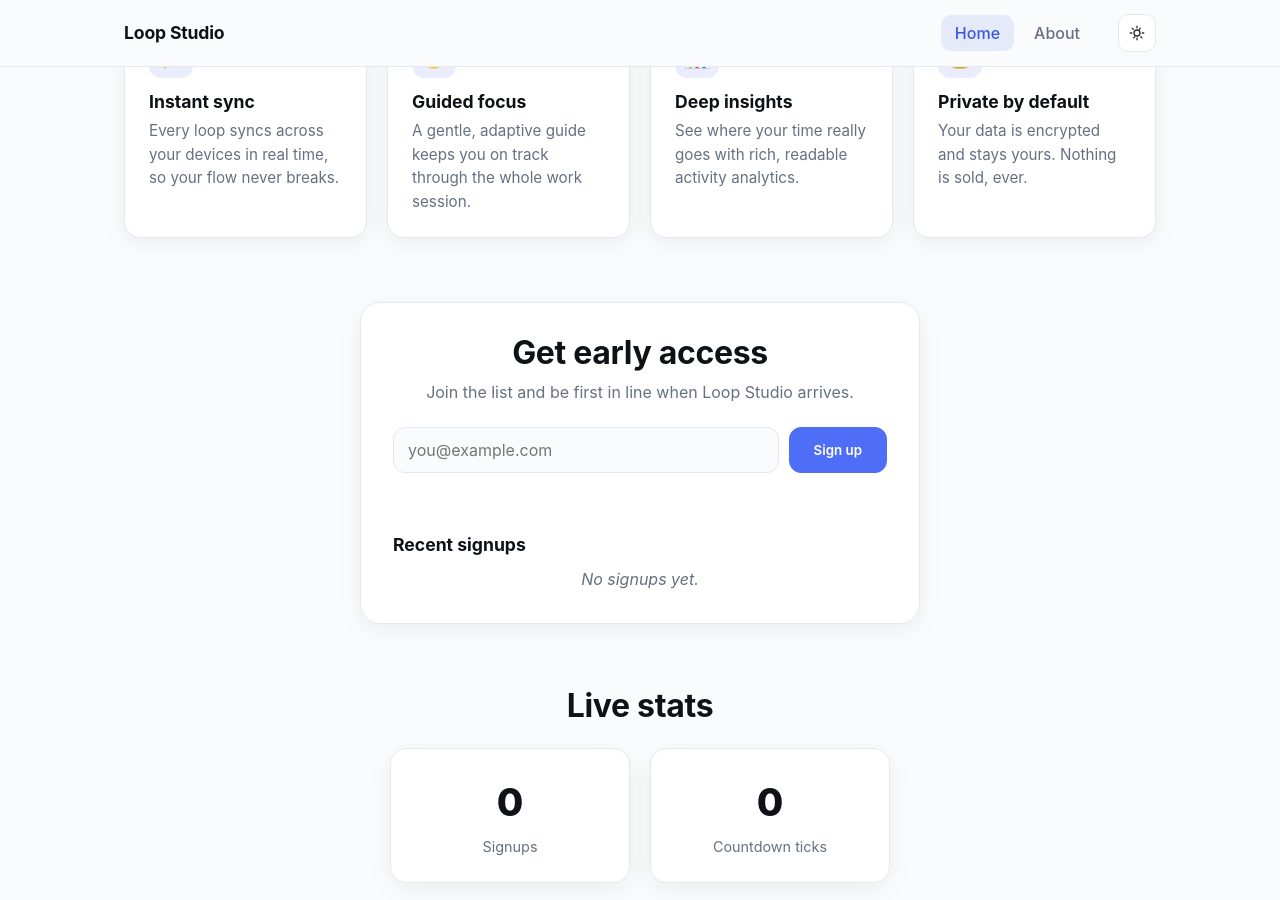
Test: App › rejects a duplicate email
(page scrolled)
Type "dup@example.com" into the field named "email".
click(586, 450); type("dup@example.com")  # box [393, 427, 778, 473]
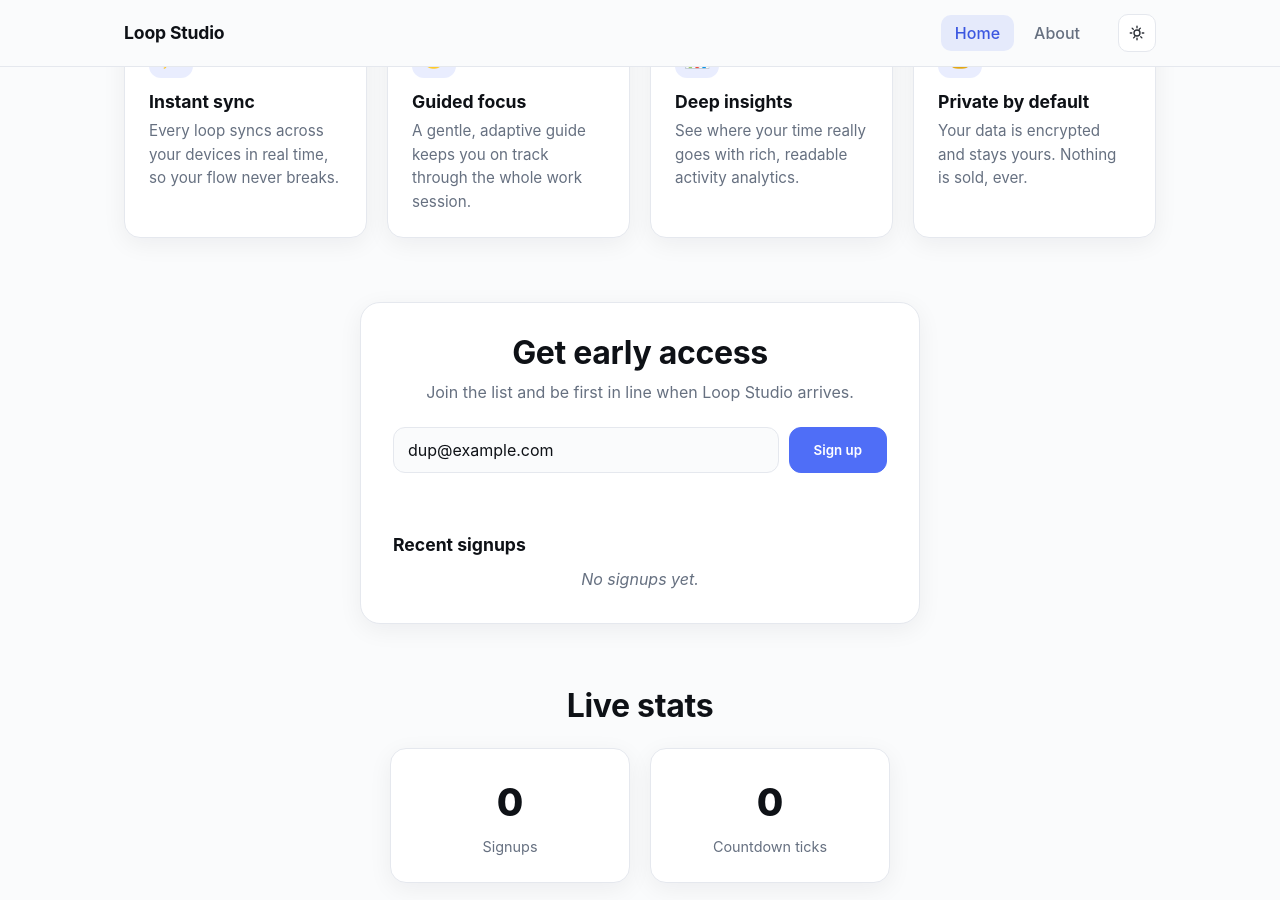
Submit the form named "get early access", box [393, 427, 887, 473]
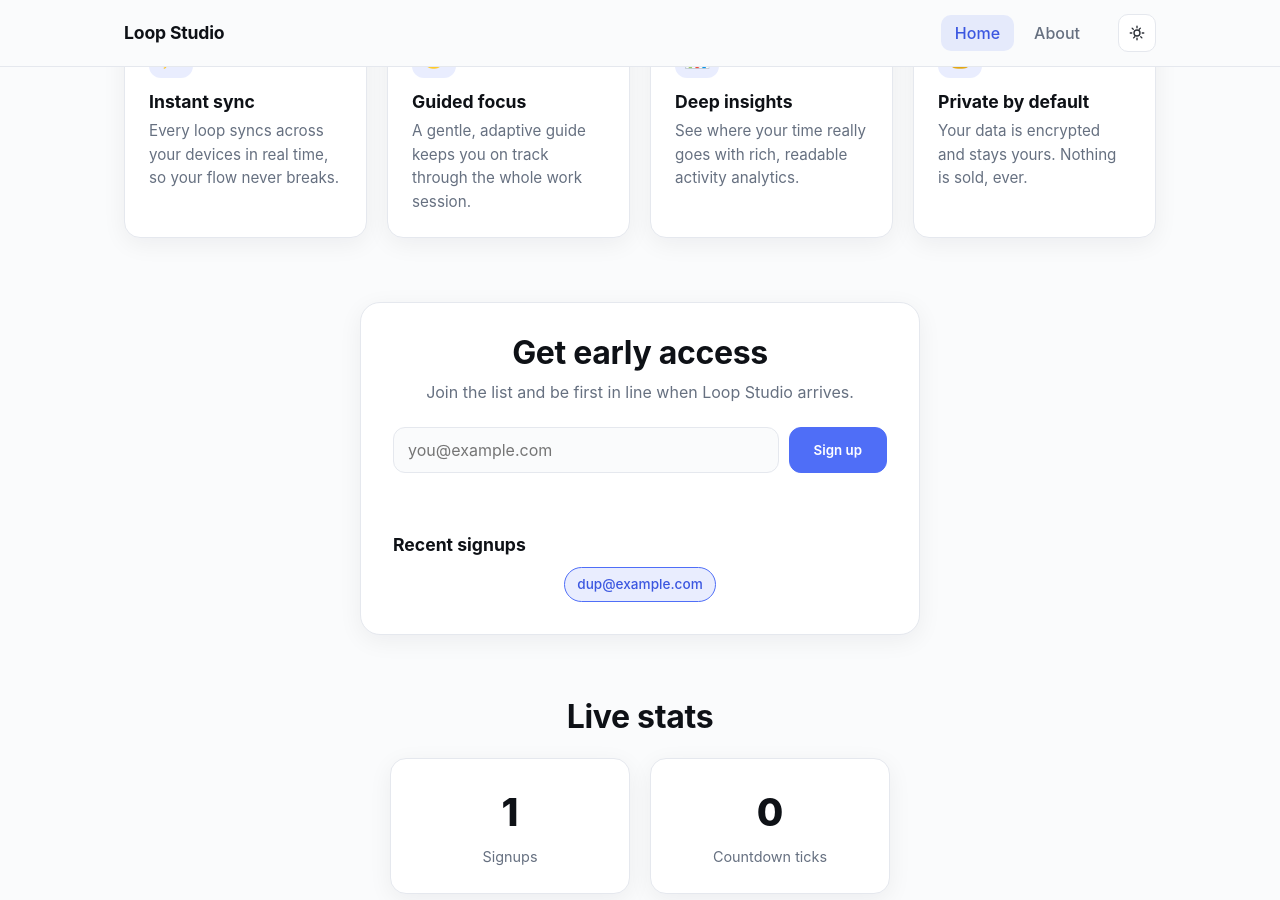
Check: the text with id "stat-signups" reads "1", box [502, 789, 518, 835]
Type "dup@example.com" into the field named "email".
click(586, 450); type("dup@example.com")  # box [393, 427, 778, 473]
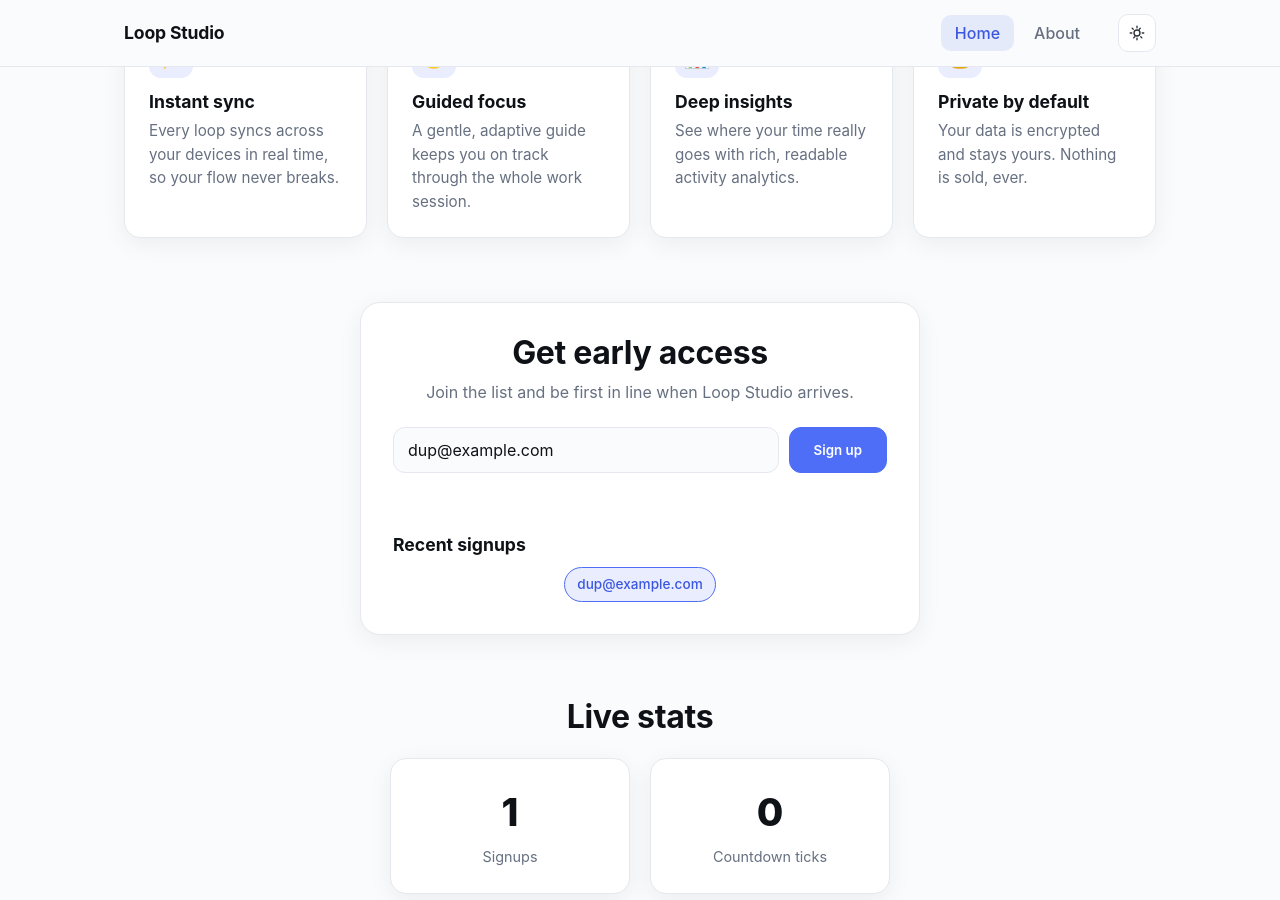
Submit the form named "get early access", box [393, 427, 887, 473]
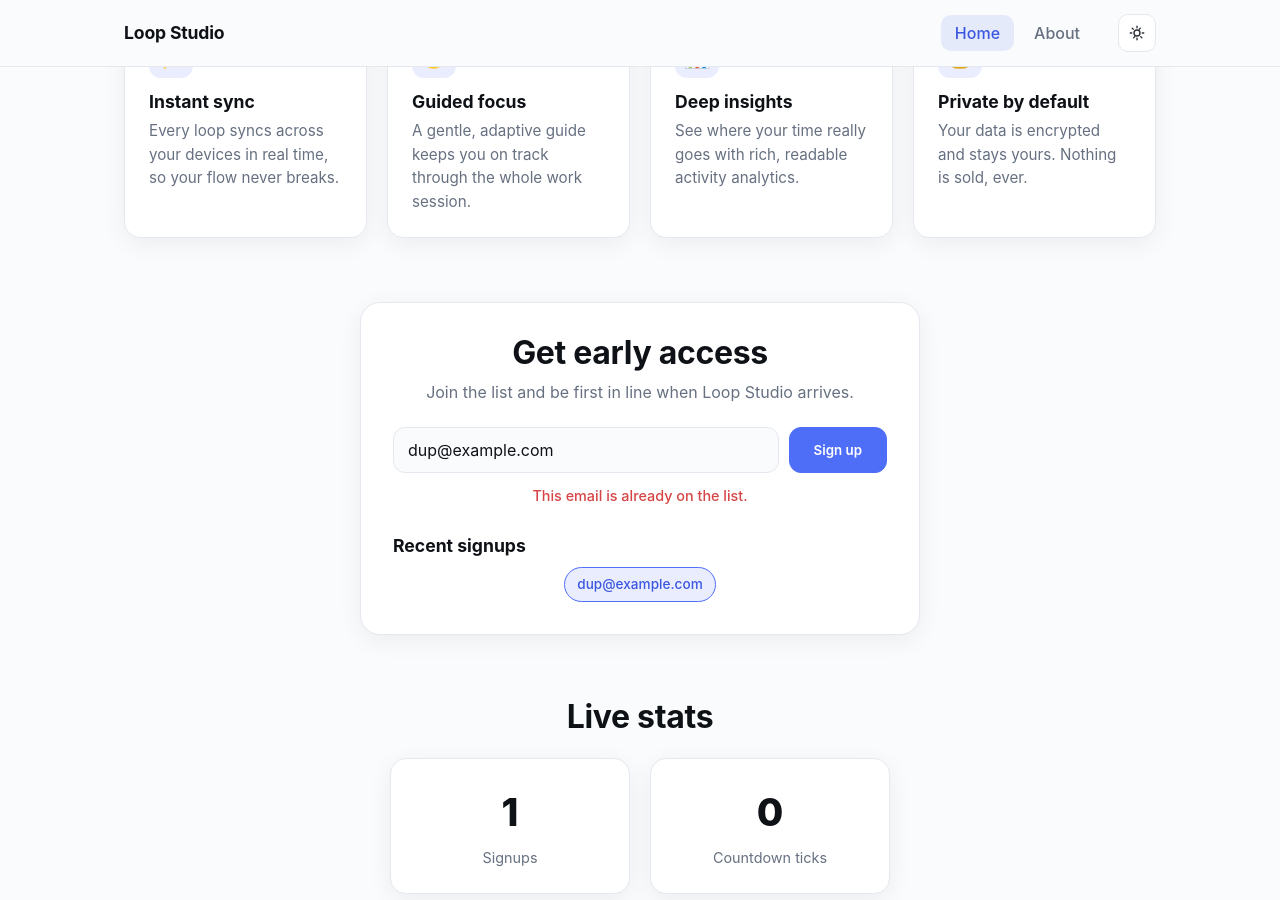
Check: the text with id "stat-signups" reads "1", box [502, 789, 518, 835]
Check: the text with id "signup-error" shows "already", box [532, 487, 748, 504]
